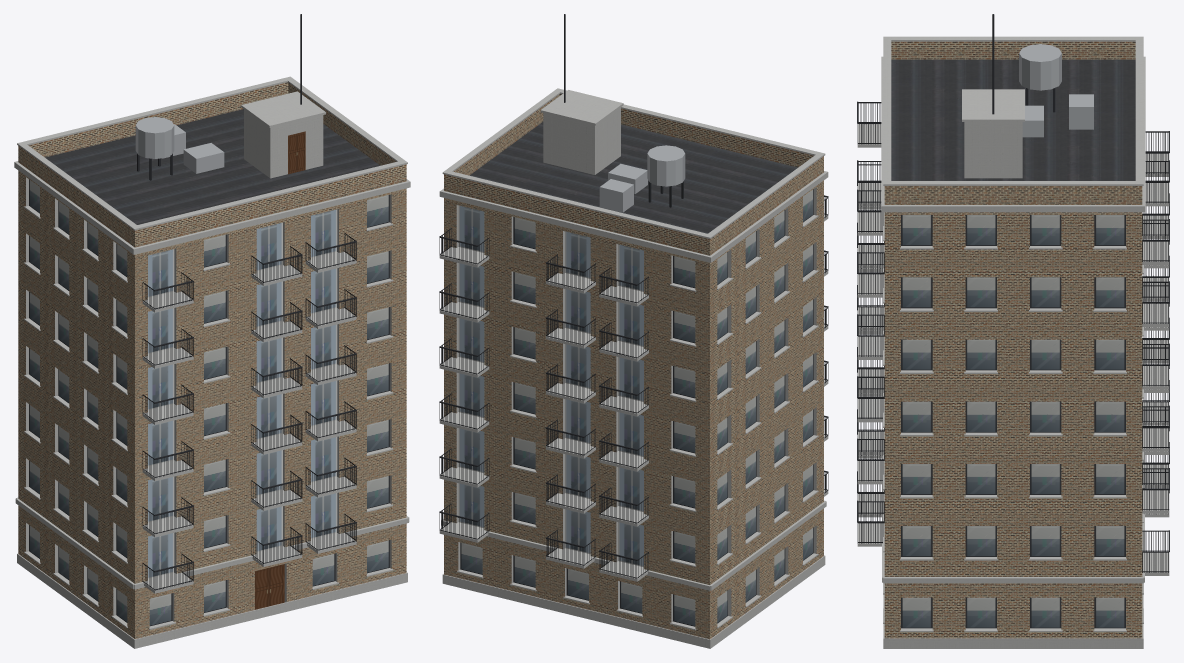
Rendered from edificio_07_bloque_ladrillo.glb.
3 views of the same model, side by side, from view 1: azimuth 30°, elevation 25°; view 2: azimuth 150°, elevation 25°; view 3: azimuth 270°, elevation 25° (orthographic). The views are drawn at different scales.
Parts seen in each view (by area): view 1: EB07_bloque_ladrillo; view 2: EB07_bloque_ladrillo; view 3: EB07_bloque_ladrillo.
Part boxes in pixels (x1,y1,x2,y2): EB07_bloque_ladrillo: [14, 14, 410, 648]; EB07_bloque_ladrillo: [439, 14, 828, 648]; EB07_bloque_ladrillo: [857, 14, 1169, 648].
Size of the model in its own units: 15.73 by 29.6 by 13.9.
Materials: 7 (5 with a texture image).
